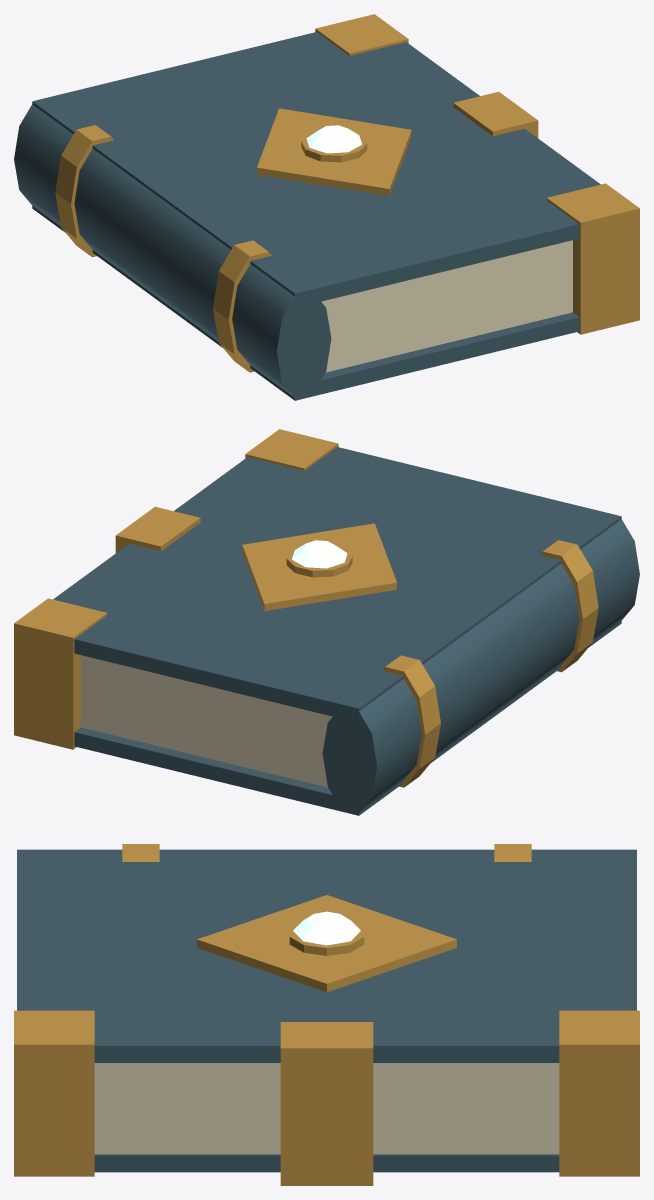
The model's file is tome_cold.glb.
The picture shows the model from 3 angles, top to bottom: view 1: azimuth 30°, elevation 25°; view 2: azimuth 150°, elevation 25°; view 3: azimuth 270°, elevation 25°; orthographic projection. The views are drawn at different scales.
Visible parts, largest first — view 1: Tome_Cold_Tome_cold, Tome_Cold_Brass, Tome_Cold_Paper, Tome_Cold_Gem_cold; view 2: Tome_Cold_Tome_cold, Tome_Cold_Brass, Tome_Cold_Paper, Tome_Cold_Gem_cold; view 3: Tome_Cold_Tome_cold, Tome_Cold_Brass, Tome_Cold_Paper, Tome_Cold_Gem_cold.
Part boxes in pixels (x1,y1,x2,y2): Tome_Cold_Tome_cold: [14, 32, 600, 400]; Tome_Cold_Brass: [55, 14, 639, 372]; Tome_Cold_Paper: [321, 240, 572, 372]; Tome_Cold_Gem_cold: [306, 125, 361, 153]; Tome_Cold_Tome_cold: [53, 447, 639, 815]; Tome_Cold_Brass: [14, 429, 598, 787]; Tome_Cold_Paper: [81, 655, 332, 787]; Tome_Cold_Gem_cold: [292, 540, 347, 568]; Tome_Cold_Tome_cold: [17, 849, 636, 1172]; Tome_Cold_Brass: [14, 844, 639, 1185]; Tome_Cold_Paper: [94, 1063, 559, 1154]; Tome_Cold_Gem_cold: [293, 911, 360, 945].
Size of the model in its own units: 0.1655 by 0.0571 by 0.202.
